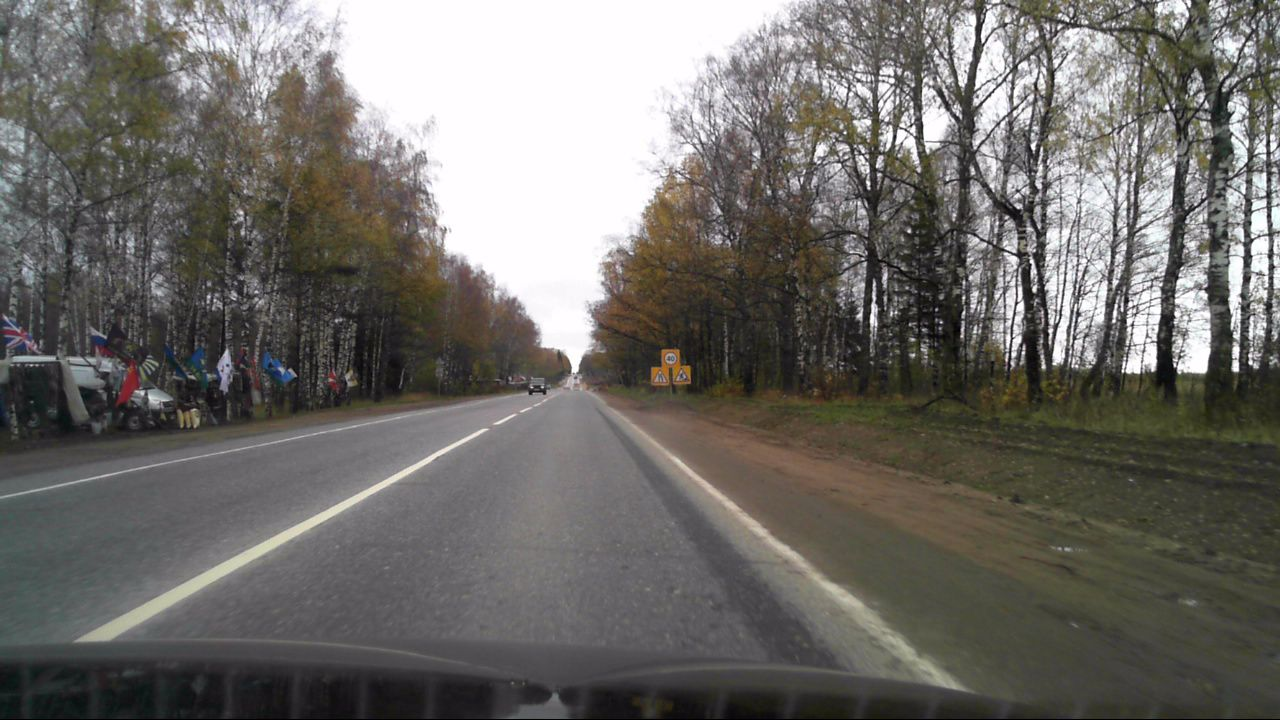speed_warning_40: (661, 349, 678, 366)
